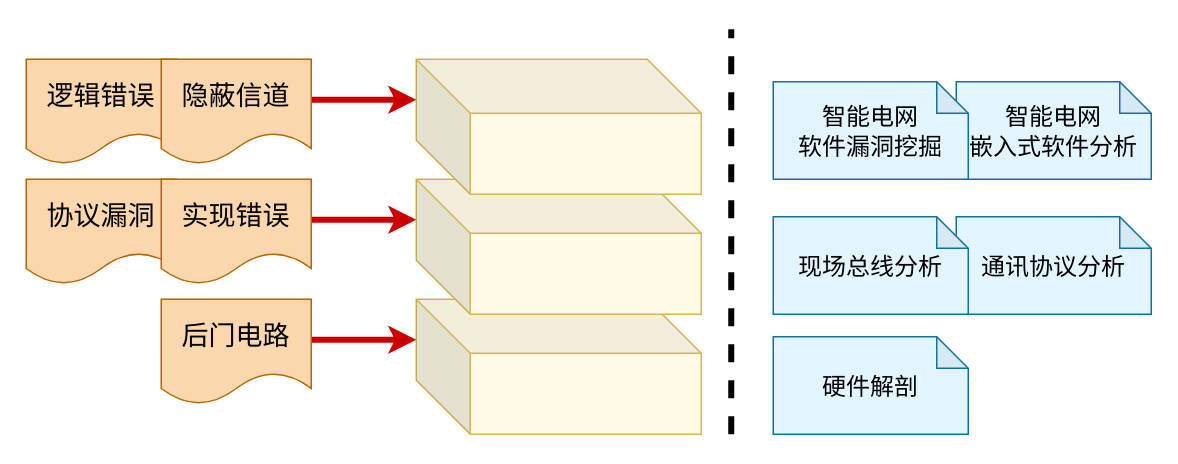
Image size: 1178x464. Some labels were removed from this diagram. The shapes that lost their labels are listed below. From the top down, each one's box as (x1, y1, x2, y2) in pixels, then its label:
(415, 58, 701, 194): 软件
(415, 178, 701, 314): 通信协议
(415, 298, 701, 434): 硬件设备
